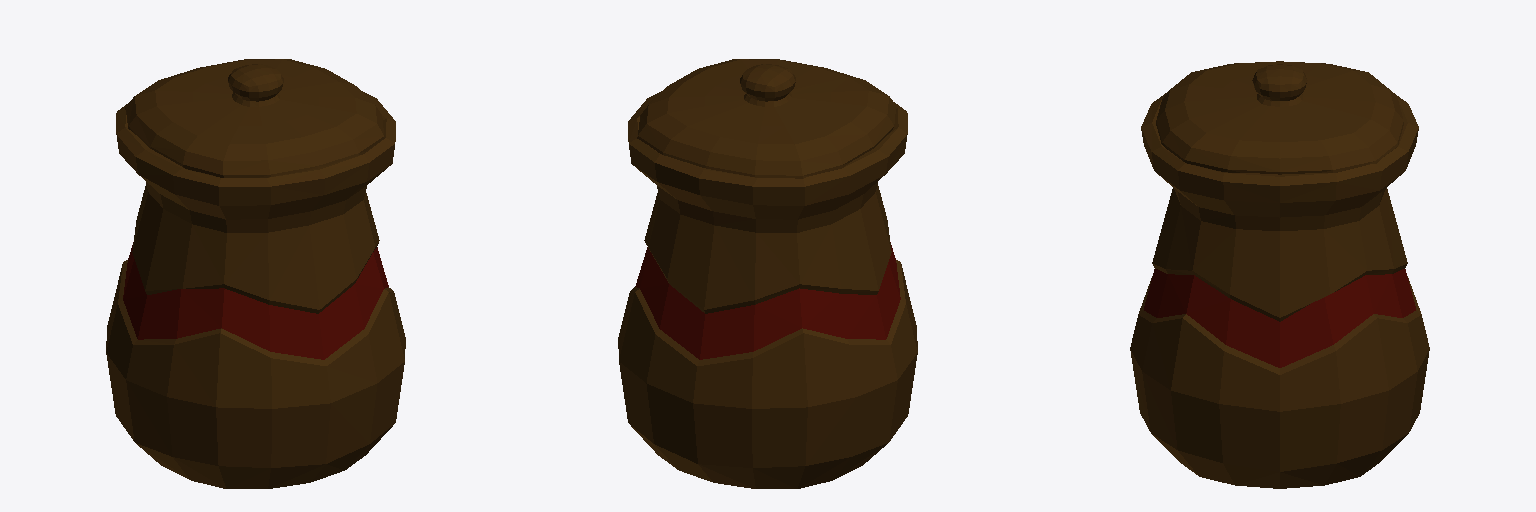
The model's file is Pot2.obj.
3 views of the same model, side by side, from view 1: azimuth 30°, elevation 25°; view 2: azimuth 150°, elevation 25°; view 3: azimuth 270°, elevation 25° (orthographic).
Visible parts, largest first — view 1: Pot2; view 2: Pot2; view 3: Pot2.
Part boxes in pixels (left/top/right/bottom): Pot2: left=106, top=59, right=405, bottom=488; Pot2: left=618, top=59, right=917, bottom=488; Pot2: left=1130, top=61, right=1429, bottom=488.
Bounding box in the file's own units: 0.4633 × 0.6373 × 0.4633.